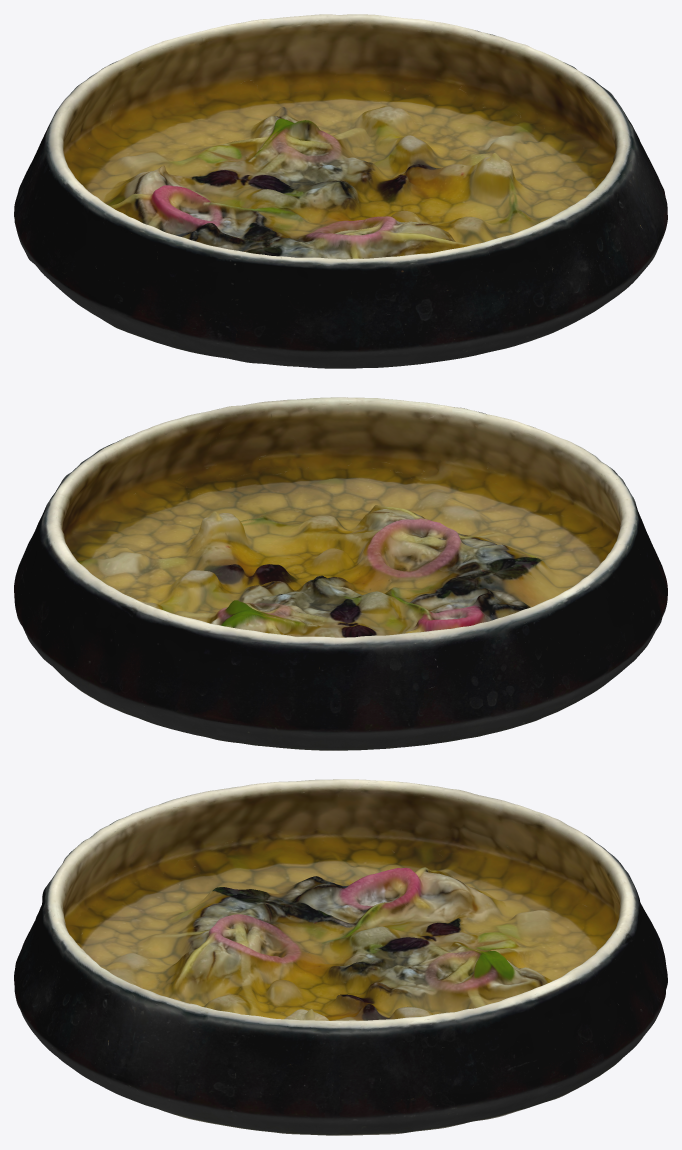
Rendered from huitres.glb.
3 renders of one model, top to bottom at view 1: azimuth 30°, elevation 25°; view 2: azimuth 150°, elevation 25°; view 3: azimuth 270°, elevation 25°, orthographic.
Parts seen in each view (by area): view 1: _691A0027_2A81_4931_92C1_951801C2C948; view 2: _691A0027_2A81_4931_92C1_951801C2C948; view 3: _691A0027_2A81_4931_92C1_951801C2C948.
Boxes of the visible parts, x1,y1,x2,y2 form: _691A0027_2A81_4931_92C1_951801C2C948: (14, 14, 667, 368); _691A0027_2A81_4931_92C1_951801C2C948: (14, 397, 667, 750); _691A0027_2A81_4931_92C1_951801C2C948: (14, 779, 667, 1135).
Size of the model in its own units: 0.2487 by 0.0444 by 0.2479.
Materials: 1 (1 with a texture image).
